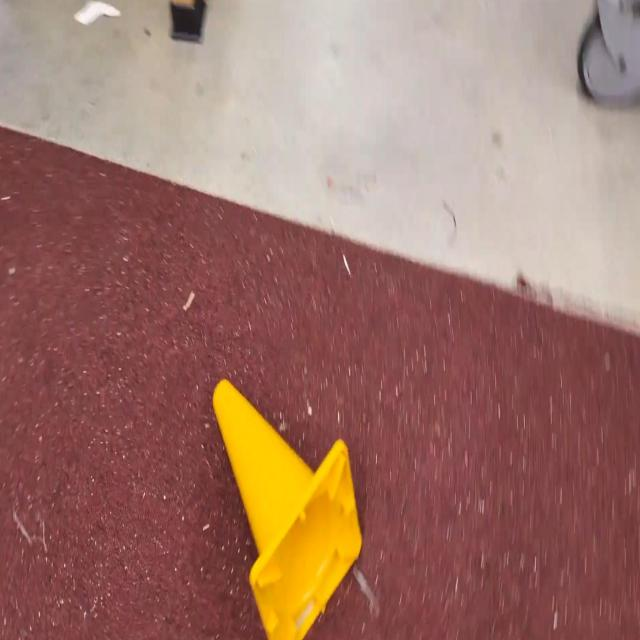frc_cone: (211, 377, 362, 638)
